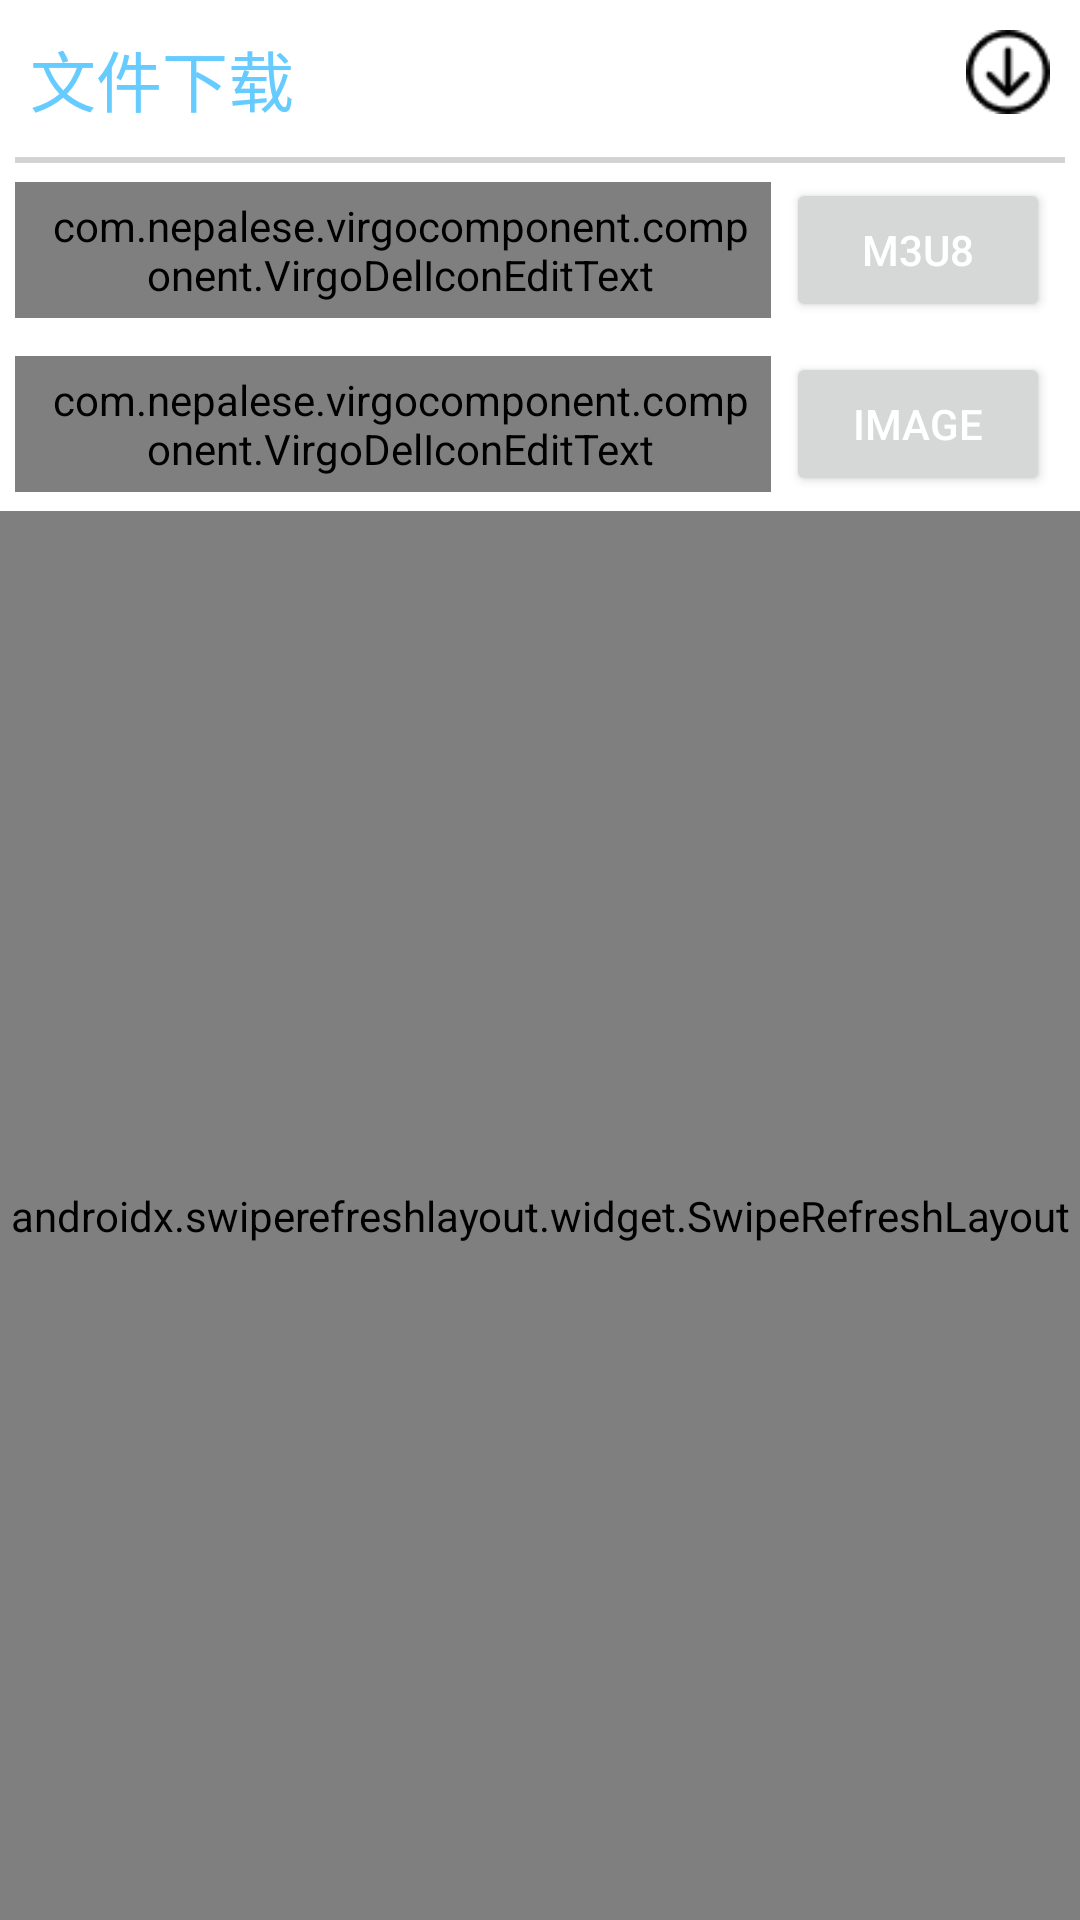

Named icons in this screenshot (1080 × 1920) and their centers, point (x, y):
download: point (1008, 72)
